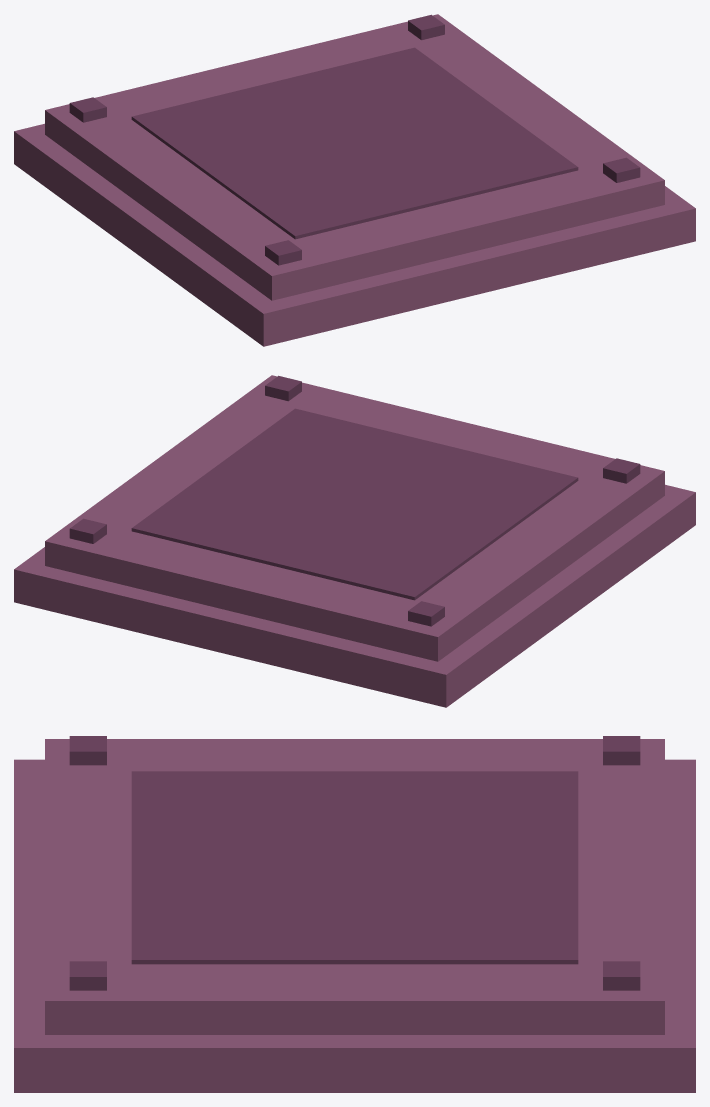
The model's file is sakura_prop_cushion.glb.
3 renders of one model, top to bottom at view 1: azimuth 30°, elevation 25°; view 2: azimuth 150°, elevation 25°; view 3: azimuth 270°, elevation 25°, orthographic. The views are drawn at different scales.
Parts seen in each view (by area): view 1: sakura_prop_cushion; view 2: sakura_prop_cushion; view 3: sakura_prop_cushion.
Boxes of the visible parts, x1=… form: sakura_prop_cushion: x1=14, y1=14, x2=695, y2=346; sakura_prop_cushion: x1=14, y1=375, x2=695, y2=707; sakura_prop_cushion: x1=14, y1=736, x2=695, y2=1092.
Bounding box in the file's own units: 0.55 × 0.082 × 0.55.
Materials: 1 (1 with a texture image).
